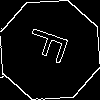F: (25, 25, 78, 68)
